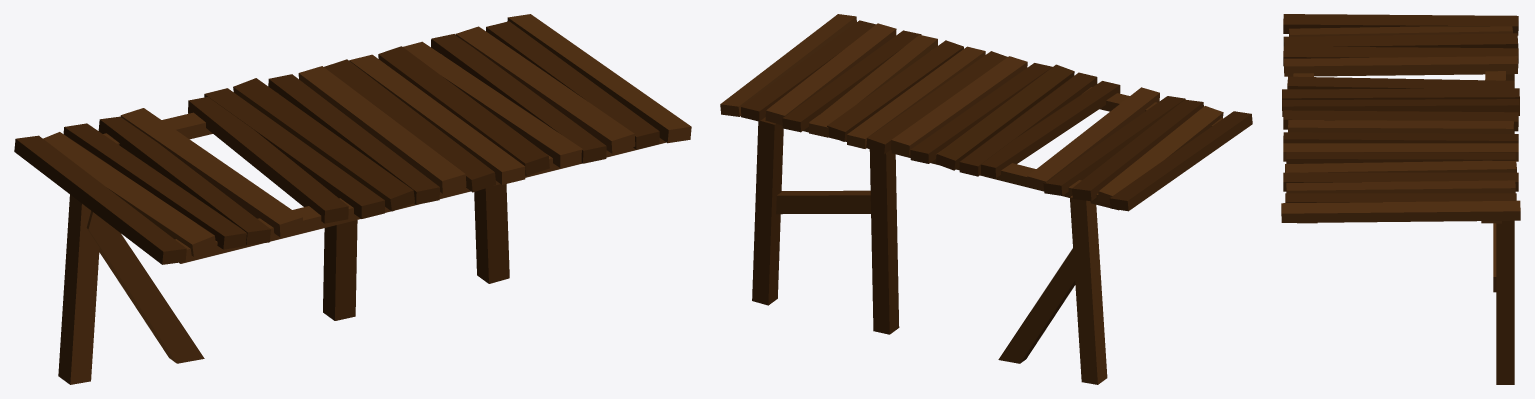
The model's file is obj_Scaffolding_2.fbx.
3 renders of one model, left to right at view 1: azimuth 30°, elevation 25°; view 2: azimuth 150°, elevation 25°; view 3: azimuth 270°, elevation 25°, orthographic. The views are drawn at different scales.
Parts seen in each view (by area): view 1: geo_Scaffolding_2; view 2: geo_Scaffolding_2; view 3: geo_Scaffolding_2.
Part boxes in pixels (x1,y1,x2,y2): geo_Scaffolding_2: [14, 14, 691, 384]; geo_Scaffolding_2: [720, 14, 1252, 384]; geo_Scaffolding_2: [1281, 14, 1520, 384].
Size of the model in its own units: 123 by 62.82 by 56.02.
